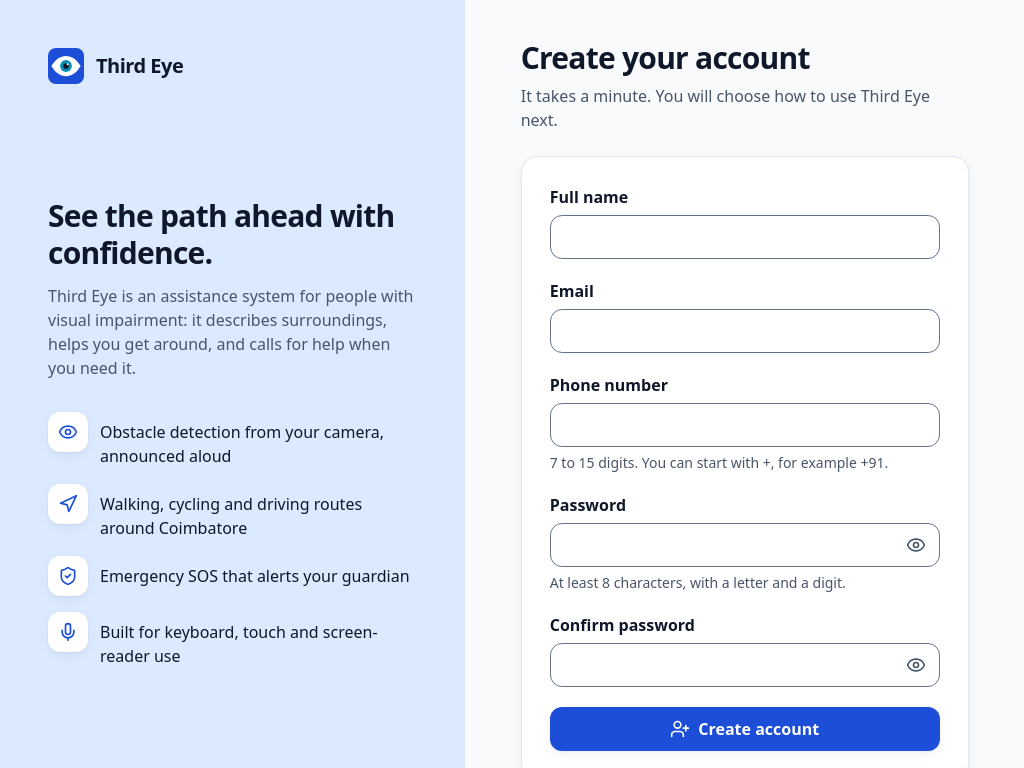
Test: Register › shows the server message when the email is already registered
Type "Asha Raman" into the field labelled "Full name" at [745, 237], box [550,215,940,259]
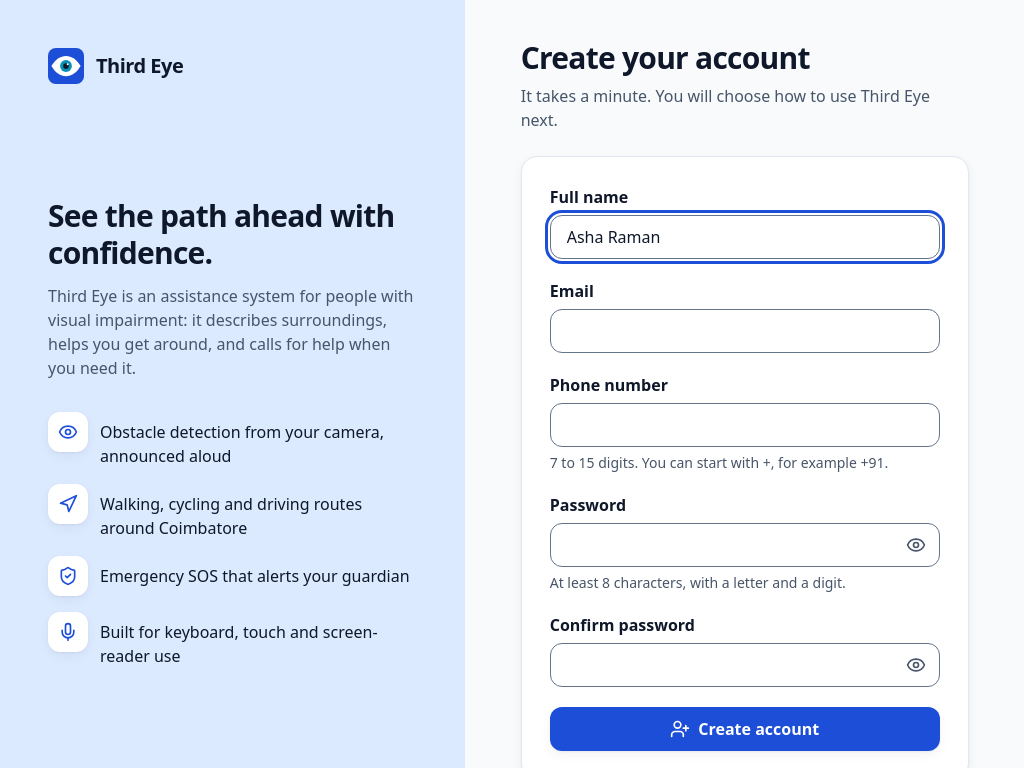
Type "asha@example.com" into the field labelled "Email" at [745, 331], box [550,309,940,353]
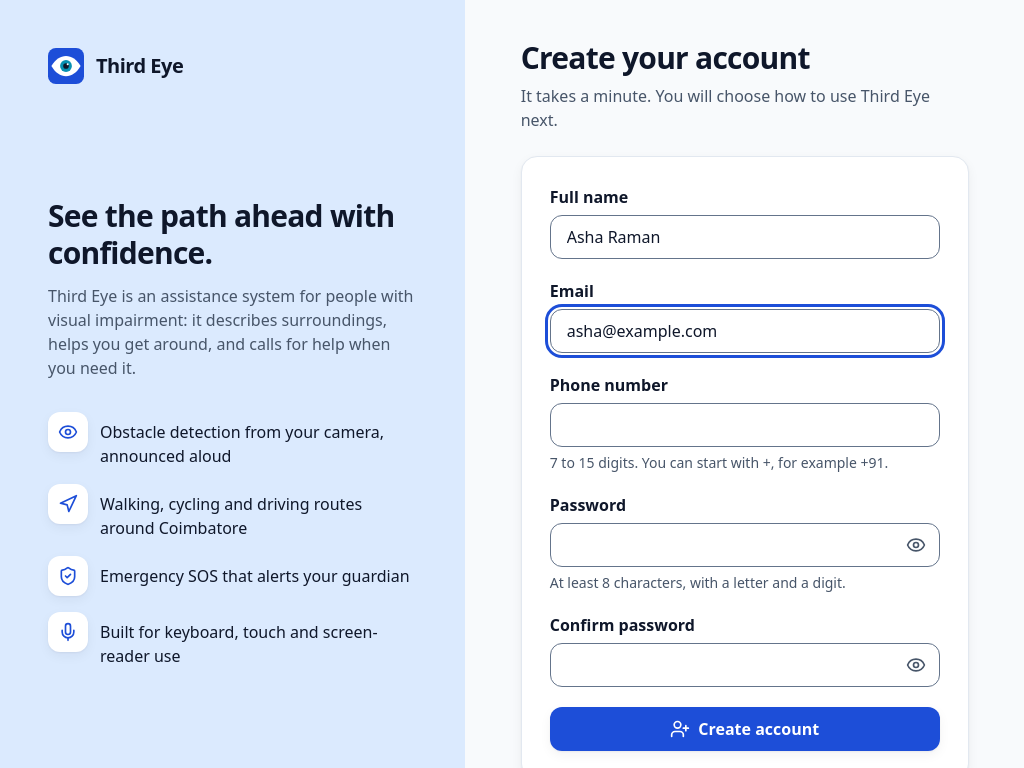
Type "+919876543210" into the field labelled "Phone number" at [745, 425], box [550,403,940,447]
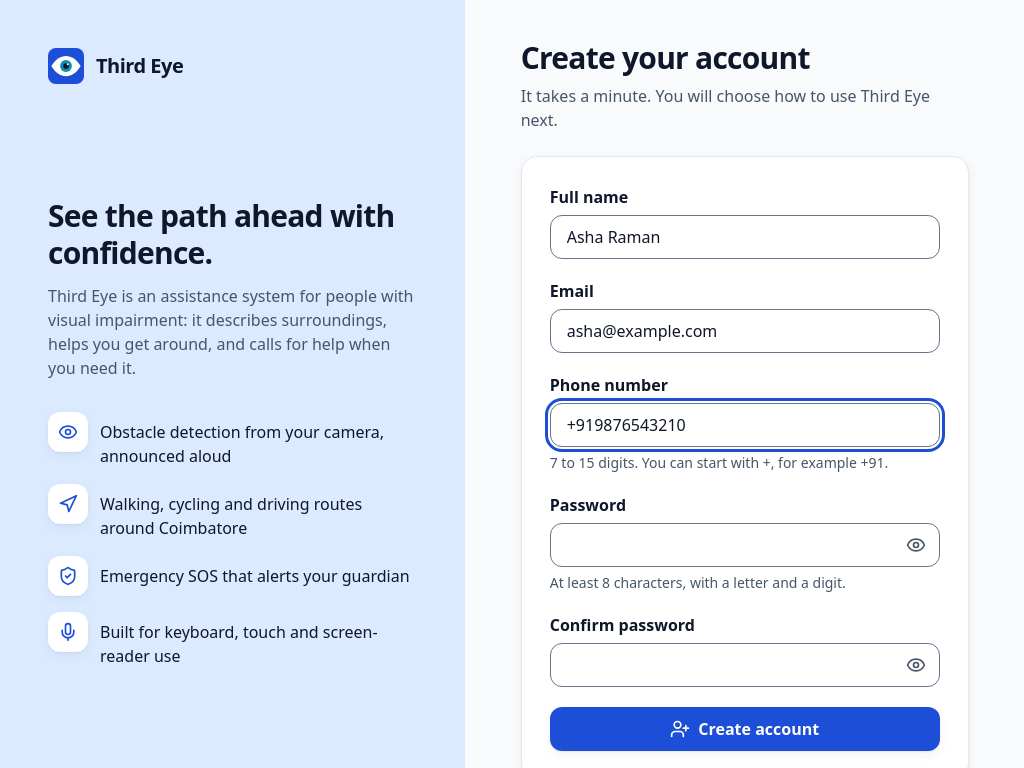
Type "goodpass1" into the password field labelled "Password" at [745, 545], box [550,523,940,567]
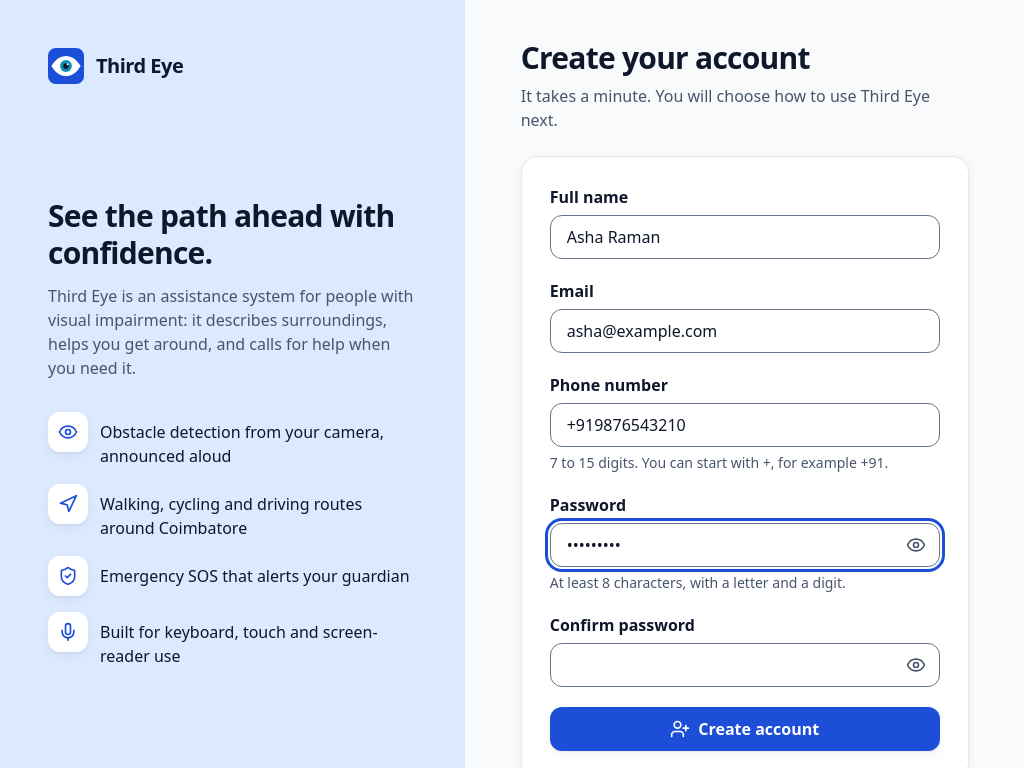
Type "goodpass1" into the password field labelled "Confirm password" at [745, 665], box [550,643,940,687]
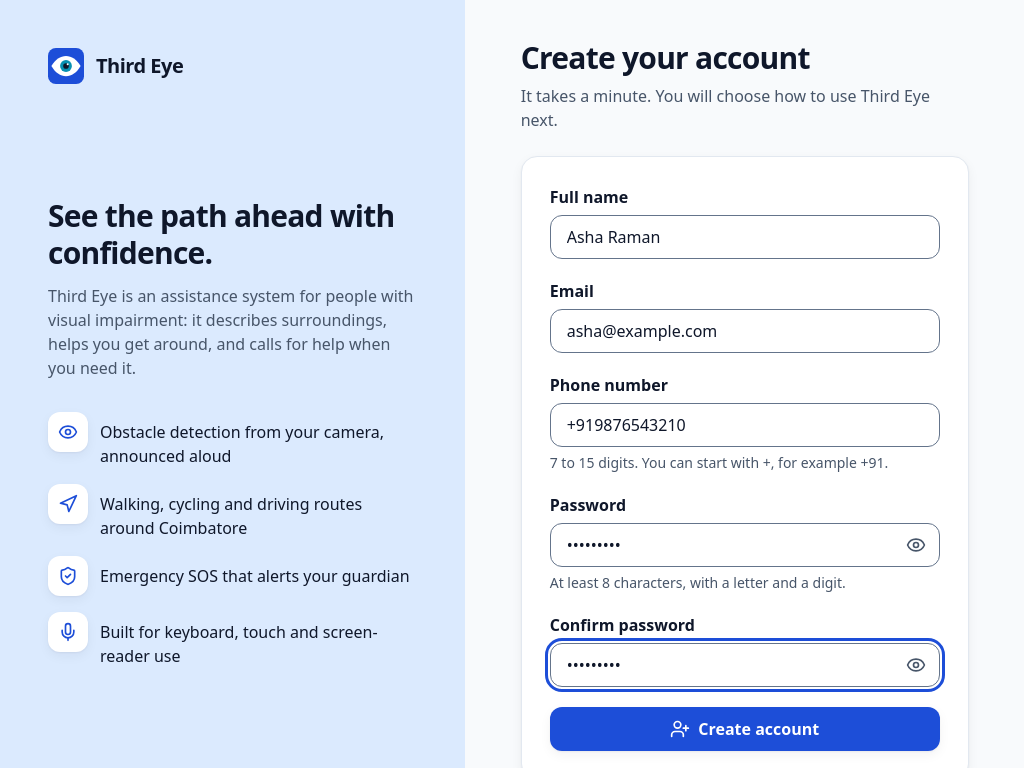
Click the button "Create account" at [745, 729], box [550,707,940,751]
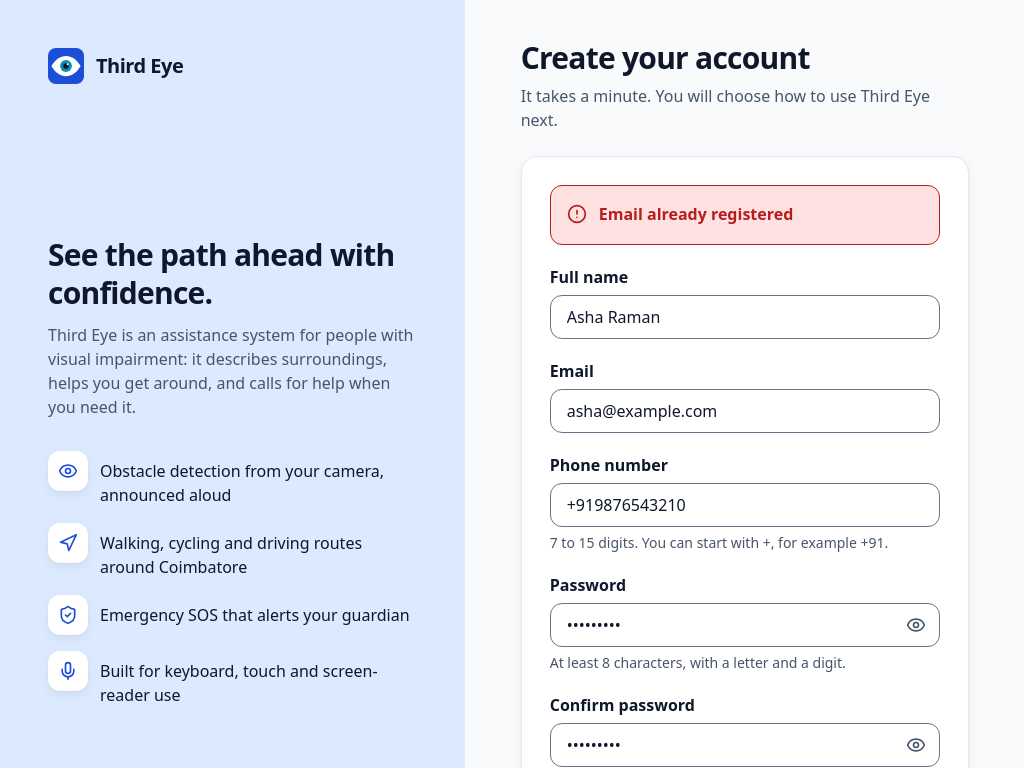
Result: the text "Email already registered" is shown at [599,202,793,228]
